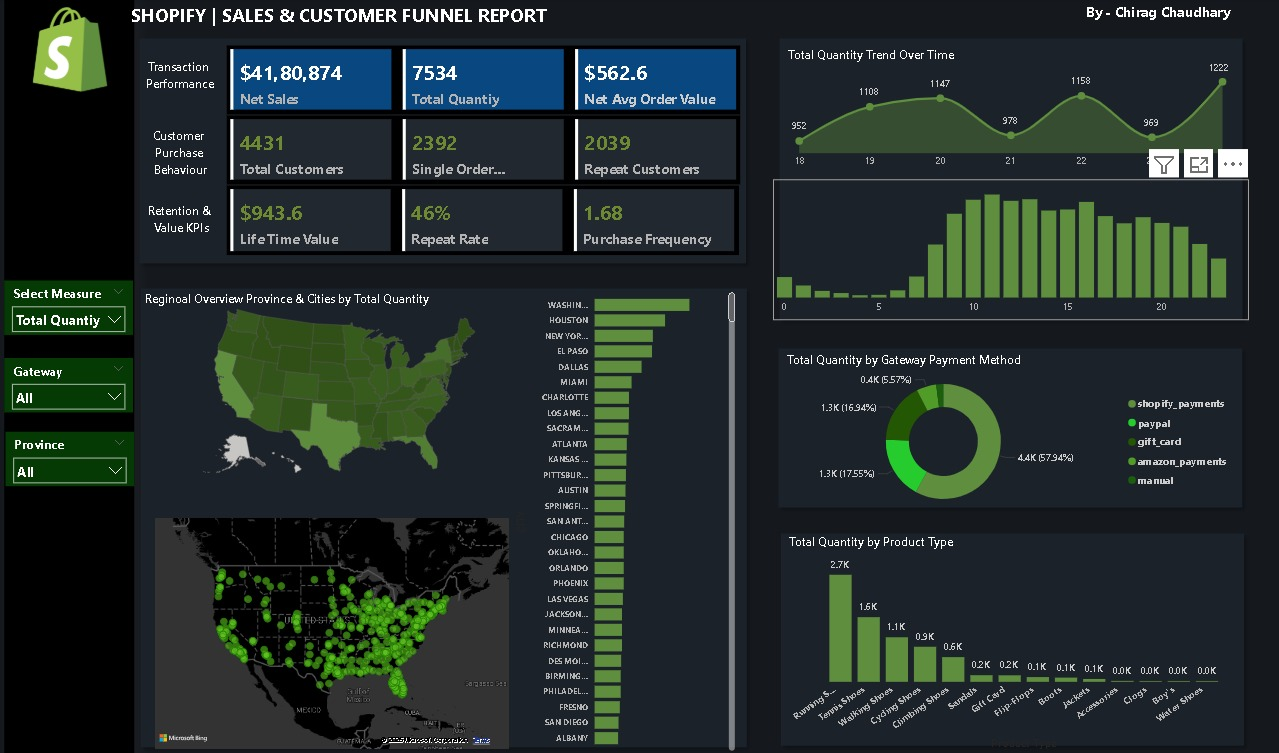

This screenshot's page, from the dashboard's own definition file:
{"tool":"powerbi","page":{"name":"Shopify Analysis","canvas":[1700,1000],"ordinal":0},"visuals":[{"type":"shape","box":[8,0,172,1000],"z":0},{"type":"textbox","box":[170.2,0,582.5,62.3],"z":1000},{"type":"shape","box":[178.6,44.3,819.8,315.2],"z":2000},{"type":"cardVisual","fields":{"Data":["shopify_sales.Net Sales","shopify_sales.Total Quantiy","shopify_sales.Ner Avg Order Value"]},"box":[302.7,62.2,679.3,90.8],"z":3000},{"type":"card","fields":{"Values":["shopify_sales.Transaction Perf"]},"box":[178.2,61.4,124.9,79.9],"z":4000},{"type":"cardVisual","fields":{"Data":["shopify_sales.Total Customers","shopify_sales.Single Order Customer","shopify_sales.Repeat Customers"]},"box":[302.7,155,679.3,90.8],"z":5000},{"type":"card","fields":{"Values":["shopify_sales.Customer Purchase Behaviour"]},"box":[178.2,151.5,124.9,96.2],"z":6000},{"type":"cardVisual","fields":{"Data":["shopify_sales.Life Time Value","shopify_sales.Repeat Rate","shopify_sales.Purchase Frequency"]},"box":[303.1,247.8,677.8,92.1],"z":7000},{"type":"card","fields":{"Values":["shopify_sales.Retention & Value KPIs"]},"box":[180.2,243.7,124.9,96.2],"z":8000},{"type":"shape","box":[180.2,374.7,819.1,624.6],"z":9000},{"type":"shapeMap","fields":{"Category":["shopify_sales.Billing Address Province"],"Value":["shopify_sales.Net Sales"]},"box":[221.8,395.3,460,250],"z":10000},{"type":"slicer","fields":{"Values":["Select Measure.Select Measure"]},"box":[8,374,170,72],"z":11000},{"type":"map","fields":{"Category":["shopify_sales.Corrected Location"]},"box":[202.8,682.9,477.5,315.8],"z":12000},{"type":"clusteredBarChart","fields":{"Y":["shopify_sales.Total Quantiy"],"Category":["shopify_sales.CITY"]},"box":[680.3,377.4,300.4,623.8],"z":13000},{"type":"card","fields":{"Values":["shopify_sales.Map Title"]},"box":[141.2,351.7,482.6,95],"z":14000},{"type":"shape","box":[1025,45,630,390],"z":15000},{"type":"areaChart","fields":{"Y":["shopify_sales.Total Quantiy"],"Category":["shopify_sales.Invoice Date.Variation.Date Hierarchy.Day"]},"box":[1045,75,590,160],"z":16000},{"type":"columnChart","fields":{"Y":["shopify_sales.Total Quantiy"],"Category":["shopify_sales.1 Hour"]},"box":[1025,240,630,186.7],"z":17000},{"type":"card","fields":{"Values":["shopify_sales.Trend Titles"]},"box":[998,44.8,313.5,64],"z":17001},{"type":"shape","box":[1023.6,454.2,631.2,228.2],"z":17002},{"type":"donutChart","fields":{"Category":["shopify_sales.Gateway"],"Y":["shopify_sales.Total Quantiy"]},"box":[1002.3,484.1,633.4,204.7],"z":17003},{"type":"card","fields":{"Values":["shopify_sales.Gateway Title"]},"box":[1002.3,447.8,394.5,64],"z":17004},{"type":"shape","box":[1026.3,698.7,630.3,298.7],"z":17005},{"type":"clusteredColumnChart","fields":{"Y":["shopify_sales.Total Quantiy"],"Category":["shopify_sales.Product Type"]},"box":[1044.7,726.3,589.5,273.7],"z":17006},{"type":"card","fields":{"Values":["shopify_sales.Produt Title"]},"box":[957.1,689.8,395.9,63.3],"z":17007},{"type":"image","box":[42,0,108,136],"z":17008},{"type":"slicer","fields":{"Values":["shopify_sales.Gateway"]},"box":[8,476,170,72],"z":17009},{"type":"slicer","fields":{"Values":["shopify_sales.Billing Address Province"]},"box":[10,574,170,72],"z":17010},{"type":"textbox","box":[1433.5,0,221.6,44.6],"z":17011}]}

Visuals, with their boxes in screenshot pixels (x1, y1, x2, y2), scaled from the page's 1700x1000 canvas onto the 1279x753 screenshot:
shape: region(6, 0, 135, 752)
textbox: region(128, 0, 566, 47)
shape: region(134, 33, 751, 271)
cardVisual - shopify_sales.Net Sales x shopify_sales.Total Quantiy: region(228, 47, 739, 115)
card - shopify_sales.Transaction Perf: region(134, 46, 228, 106)
cardVisual - shopify_sales.Total Customers x shopify_sales.Single Order Customer: region(228, 117, 739, 185)
card - shopify_sales.Customer Purchase Behaviour: region(134, 114, 228, 187)
cardVisual - shopify_sales.Life Time Value x shopify_sales.Repeat Rate: region(228, 187, 738, 256)
card - shopify_sales.Retention & Value KPIs: region(136, 184, 230, 256)
shape: region(136, 282, 752, 752)
shapeMap - shopify_sales.Billing Address Province x shopify_sales.Net Sales: region(167, 298, 513, 486)
slicer - Select Measure.Select Measure: region(6, 282, 134, 336)
map - shopify_sales.Corrected Location: region(153, 514, 512, 752)
clusteredBarChart - shopify_sales.Total Quantiy x shopify_sales.CITY: region(512, 284, 738, 752)
card - shopify_sales.Map Title: region(106, 265, 469, 336)
shape: region(771, 34, 1245, 328)
areaChart - shopify_sales.Total Quantiy x shopify_sales.Invoice Date.Variation.Date Hierarchy.Day: region(786, 56, 1230, 177)
columnChart - shopify_sales.Total Quantiy x shopify_sales.1 Hour: region(771, 181, 1245, 321)
card - shopify_sales.Trend Titles: region(751, 34, 987, 82)
shape: region(770, 342, 1245, 514)
donutChart - shopify_sales.Gateway x shopify_sales.Total Quantiy: region(754, 365, 1231, 519)
card - shopify_sales.Gateway Title: region(754, 337, 1051, 385)
shape: region(772, 526, 1246, 751)
clusteredColumnChart - shopify_sales.Total Quantiy x shopify_sales.Product Type: region(786, 547, 1229, 752)
card - shopify_sales.Produt Title: region(720, 519, 1018, 567)
image: region(32, 0, 113, 102)
slicer - shopify_sales.Gateway: region(6, 358, 134, 413)
slicer - shopify_sales.Billing Address Province: region(8, 432, 135, 486)
textbox: region(1078, 0, 1245, 34)
